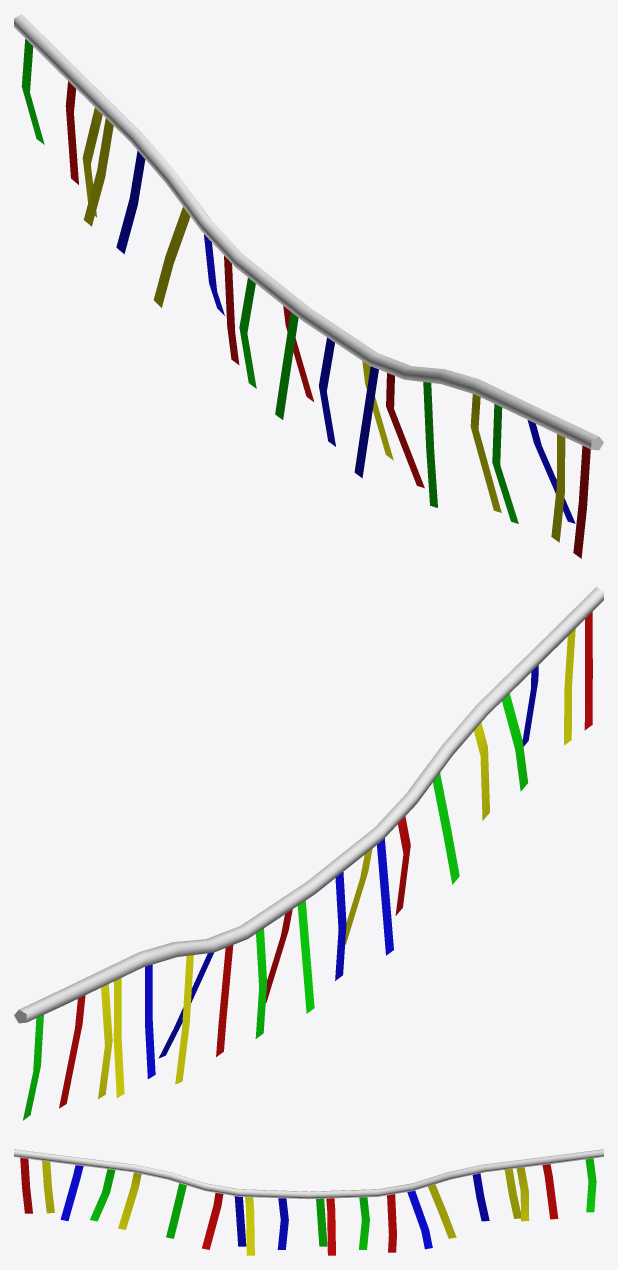
File: SM_Banner.fbx
3 views of the same model, one above another, from view 1: azimuth 30°, elevation 25°; view 2: azimuth 150°, elevation 25°; view 3: azimuth 270°, elevation 25° (orthographic). The views are drawn at different scales.
Visible parts, largest first — view 1: banderole_V2; view 2: banderole_V2; view 3: banderole_V2.
Boxes of the visible parts, x1,y1,x2,y2 form: banderole_V2: (14, 14, 603, 558); banderole_V2: (14, 587, 603, 1120); banderole_V2: (14, 1149, 603, 1255).
Size of the model in its own units: 0.8172 by 3.35 by 17.67.
